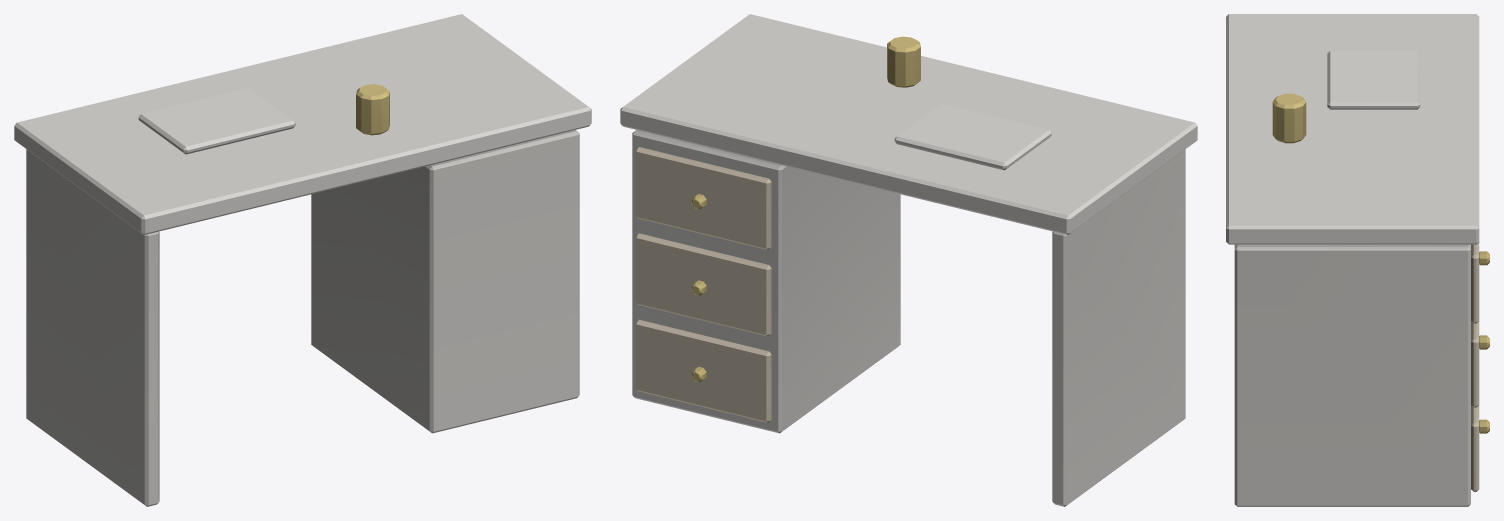
The model's file is furn_desk__white.glb.
3 views of the same model, side by side, from view 1: azimuth 30°, elevation 25°; view 2: azimuth 150°, elevation 25°; view 3: azimuth 270°, elevation 25° (orthographic). The views are drawn at different scales.
Size of the model in its own units: 1.2 by 0.855 by 0.625.
